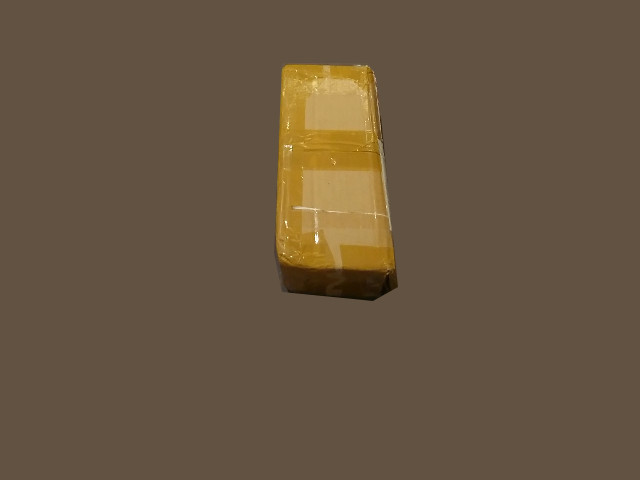cardboard: (277, 65, 398, 292)
